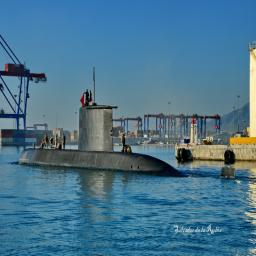submarine: (25, 103, 238, 181)
